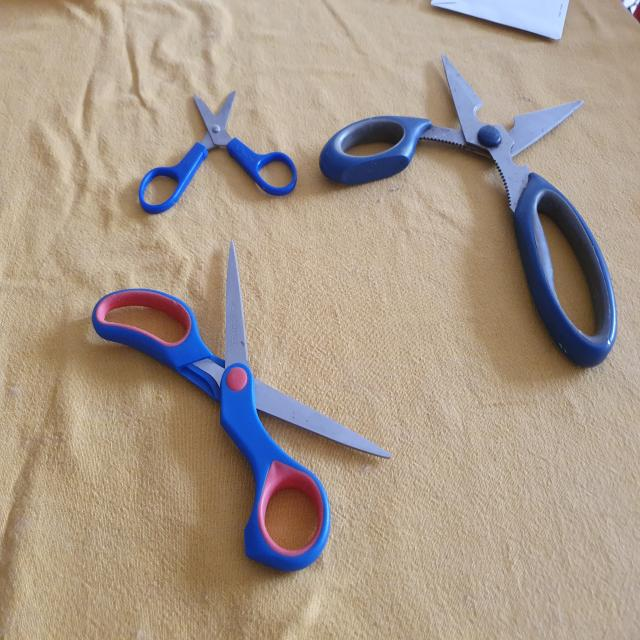scissors: (92, 249, 391, 576), (318, 60, 619, 371), (132, 83, 299, 223)
